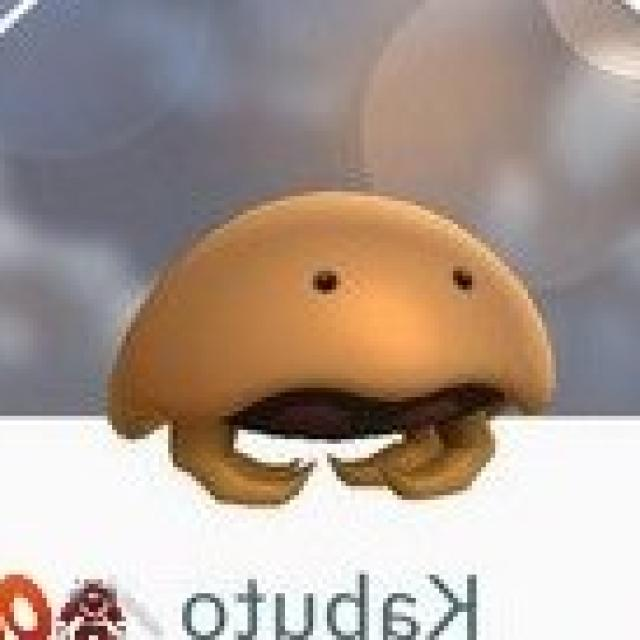Kabuto: (104, 190, 561, 508)
